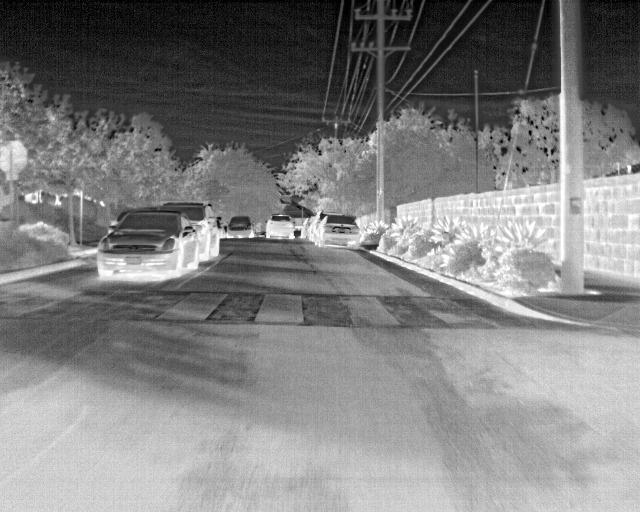car: (97, 208, 199, 282), (160, 202, 219, 261), (315, 212, 360, 247), (228, 214, 254, 239), (267, 213, 291, 236), (305, 213, 320, 237), (290, 226, 302, 238)
